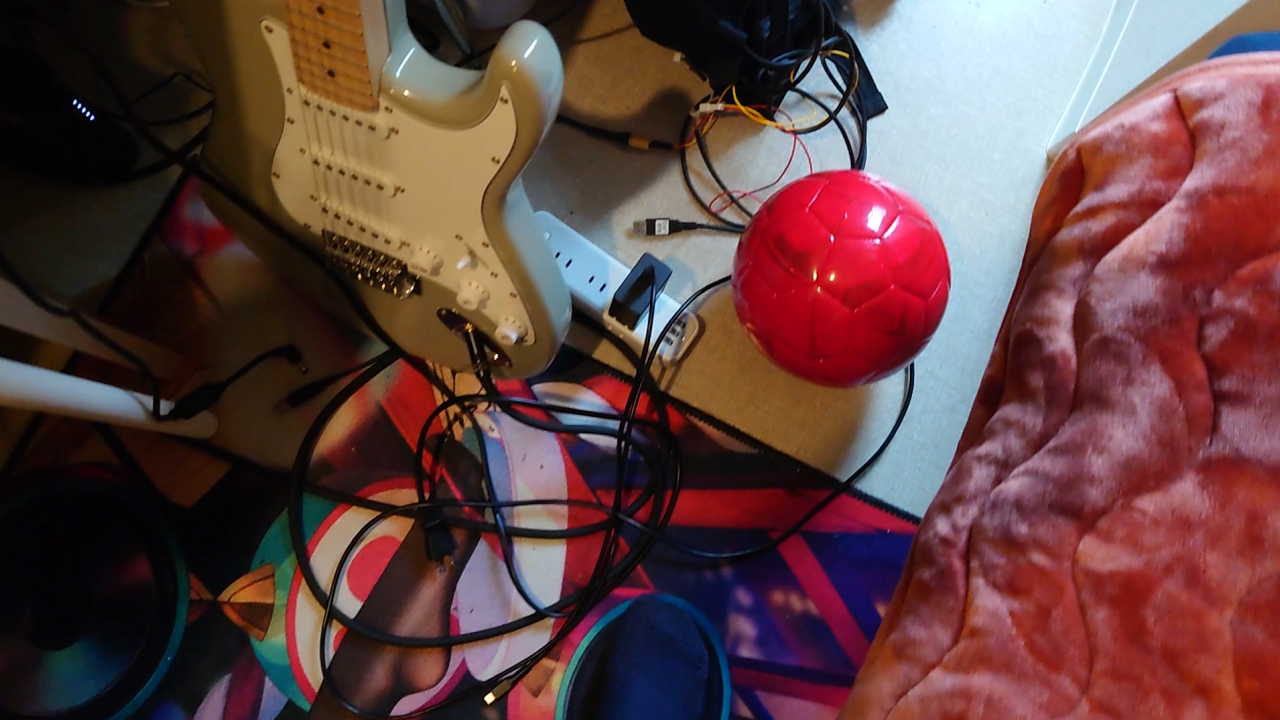red: (733, 169, 951, 391)
